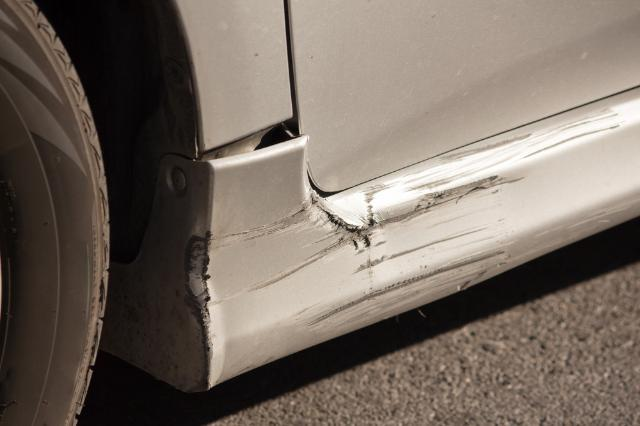scratch: (185, 106, 640, 336)
